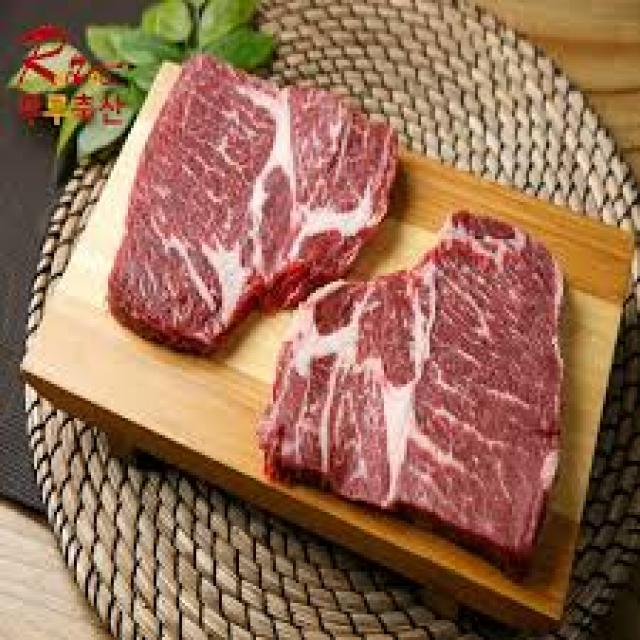Beef: (262, 213, 566, 560), (108, 54, 401, 354)
